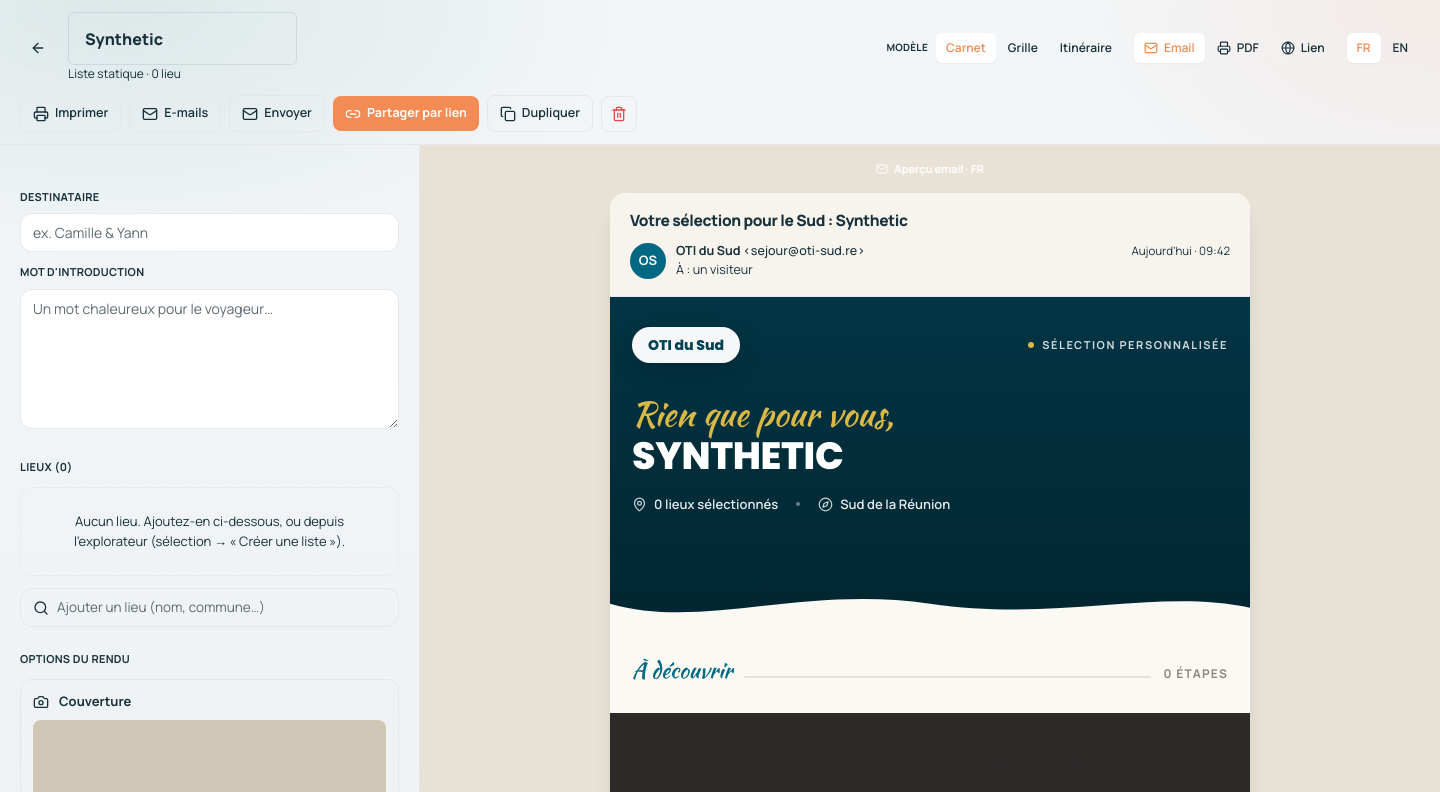
Test: known pre-prepare failure B does not discard uncertain A before C
Click the button "Envoyer".
click(277, 114)  # box [229, 95, 325, 132]
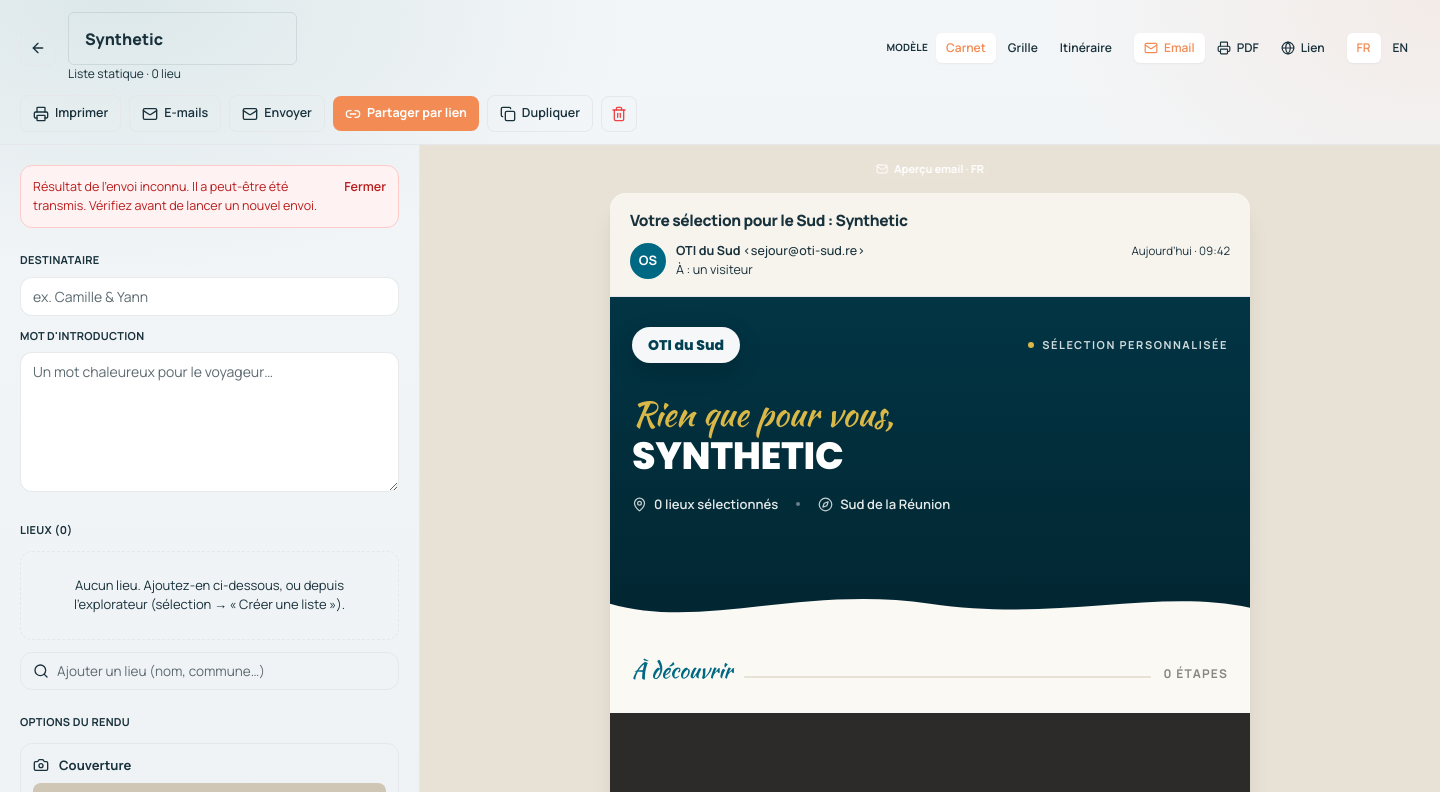
Click the button "Envoyer".
click(277, 114)  # box [229, 95, 325, 132]
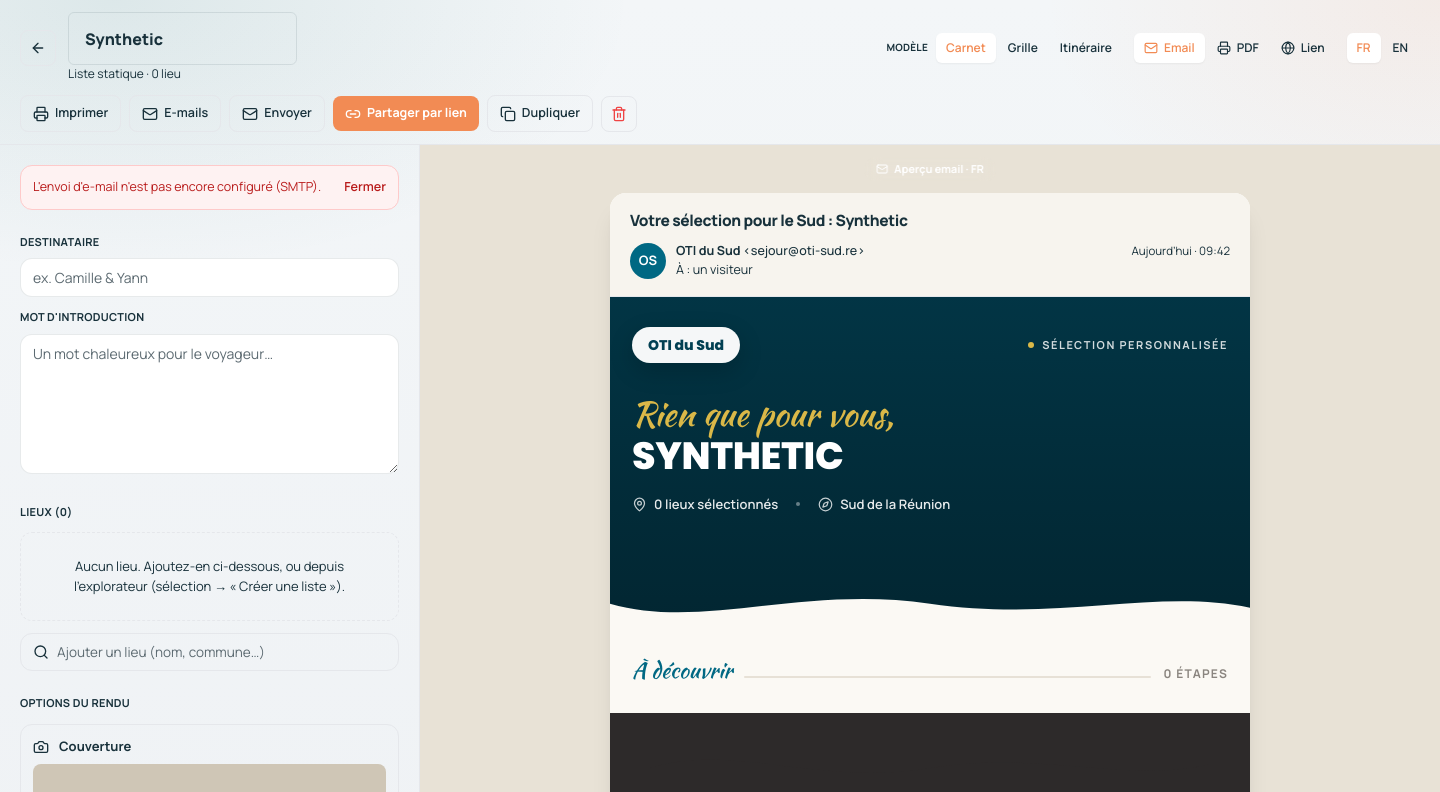
Click the button "Envoyer".
click(277, 114)  # box [229, 95, 325, 132]
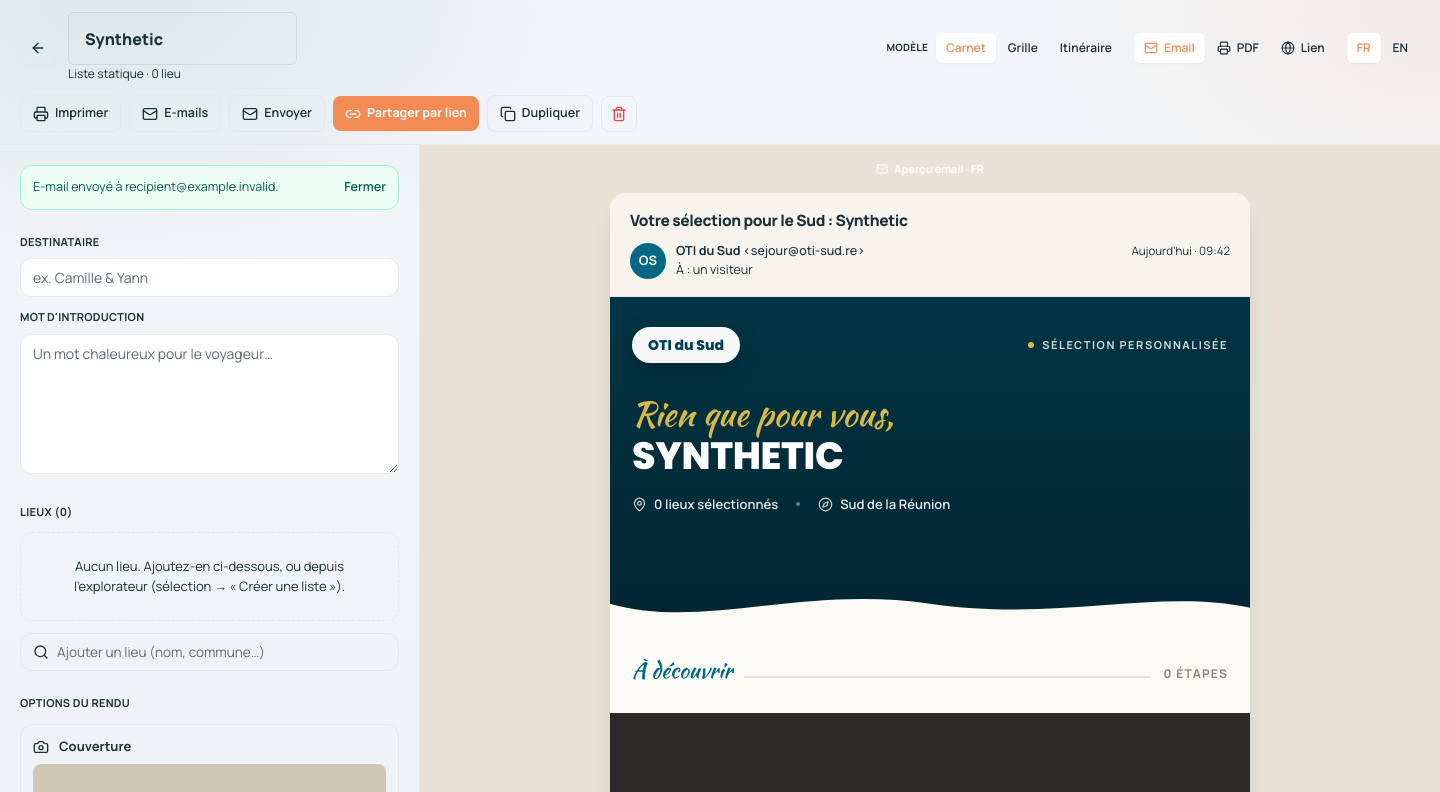
Check: the text "E-mail envoyé à recipient@example.invalid." is shown, box [33, 178, 278, 197]
